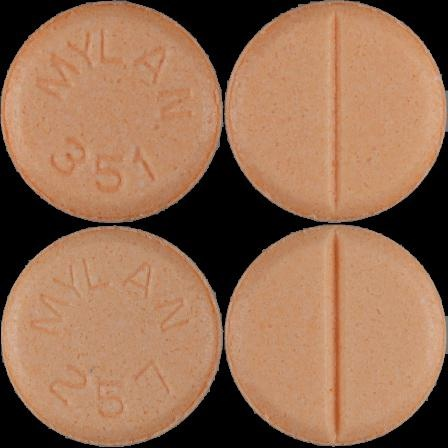51079-733: (0, 0, 224, 224)
